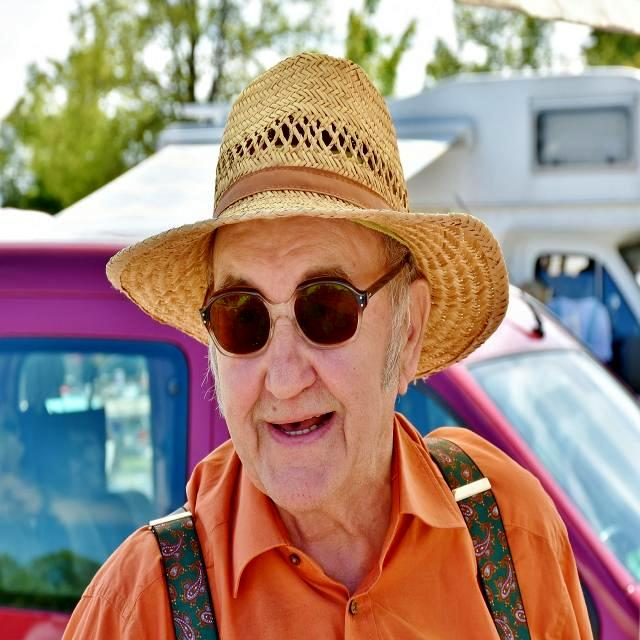no_hard_hat: (107, 52, 508, 376)
person: (60, 216, 592, 639)
